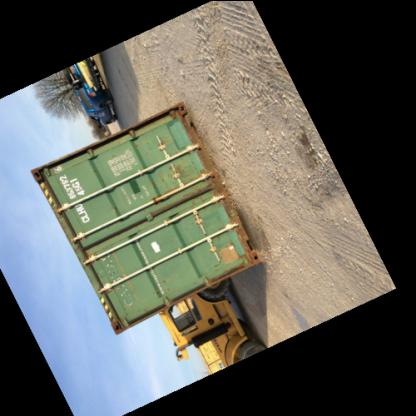Damage: (210, 236, 251, 270), (196, 166, 223, 202), (70, 228, 102, 250), (164, 156, 186, 178), (107, 312, 128, 332), (156, 272, 173, 296), (32, 164, 49, 179)
